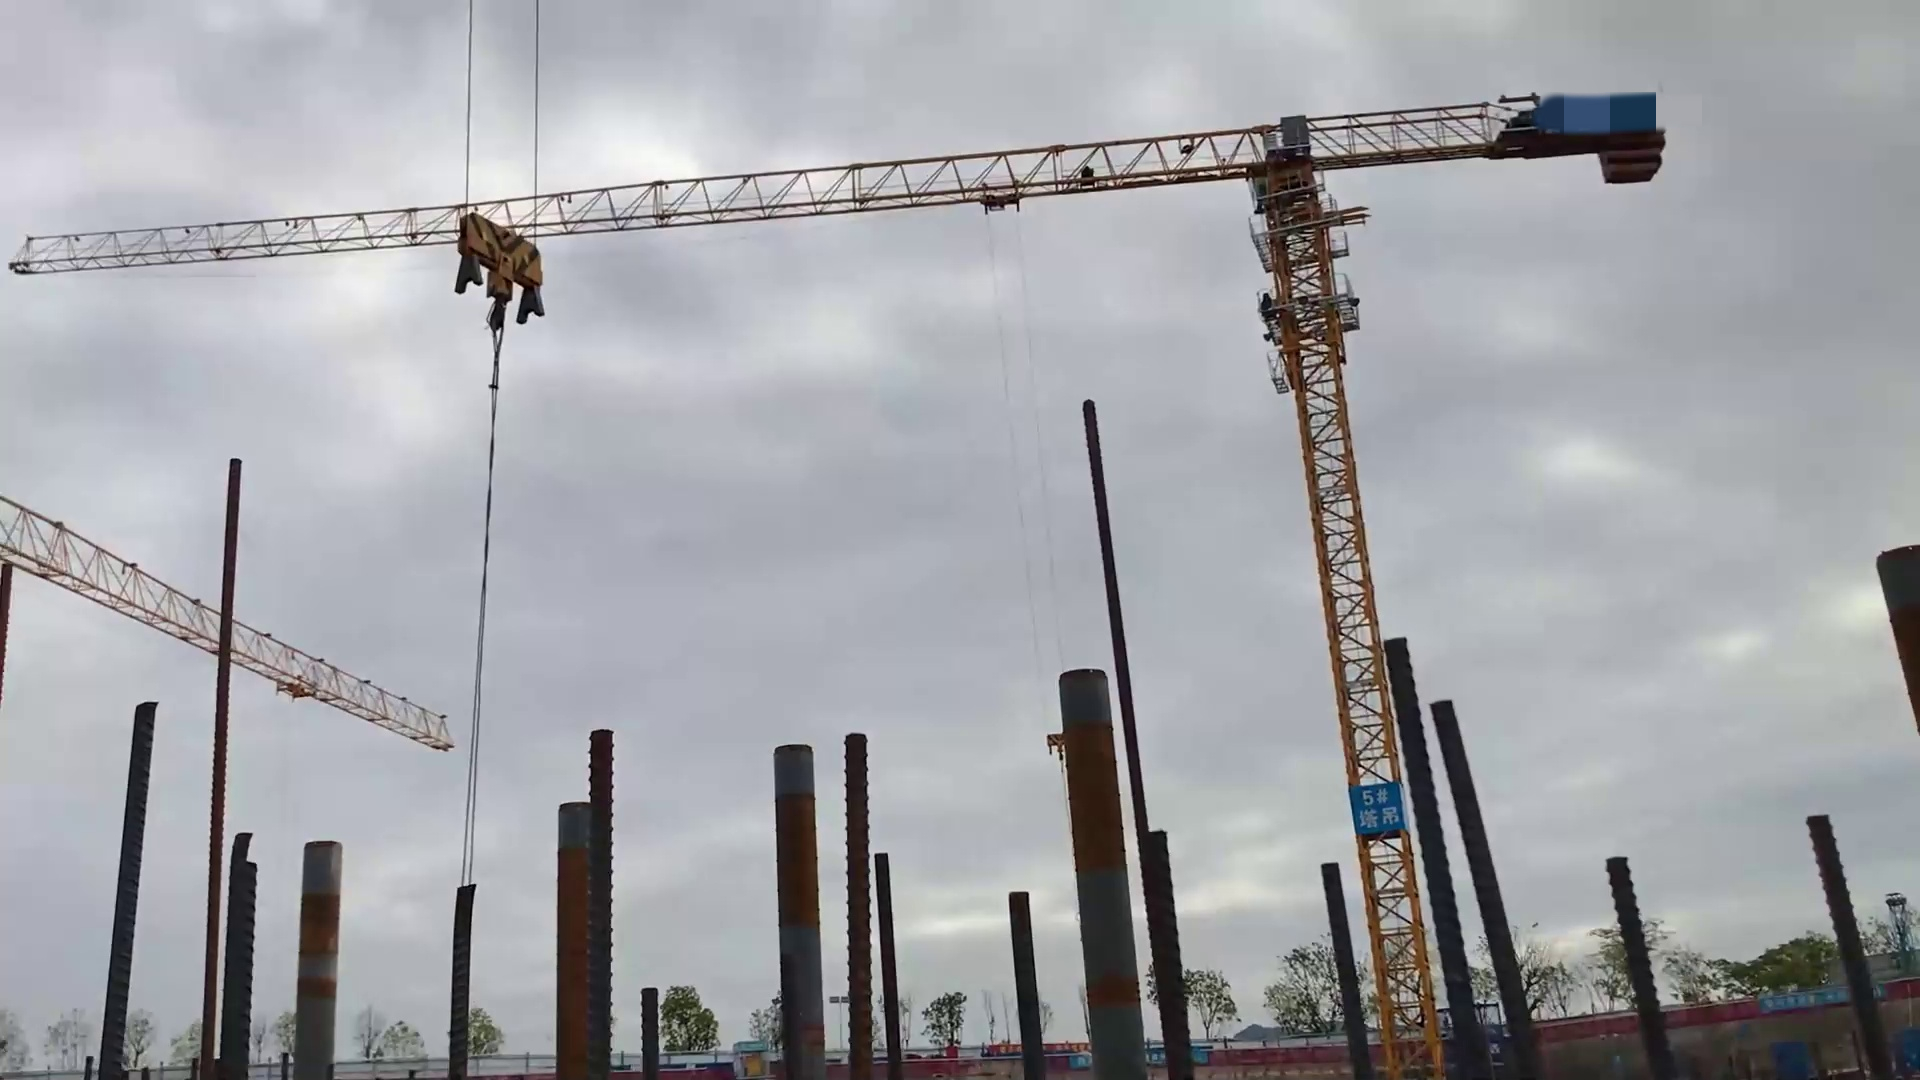hook: (447, 208, 550, 342)
